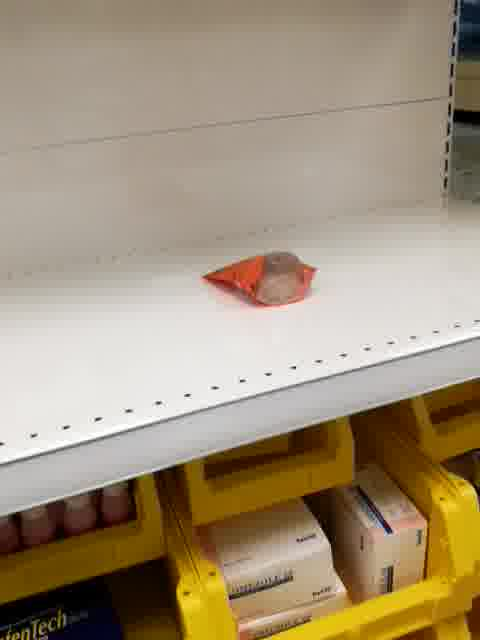whitechia: (198, 246, 319, 308)
